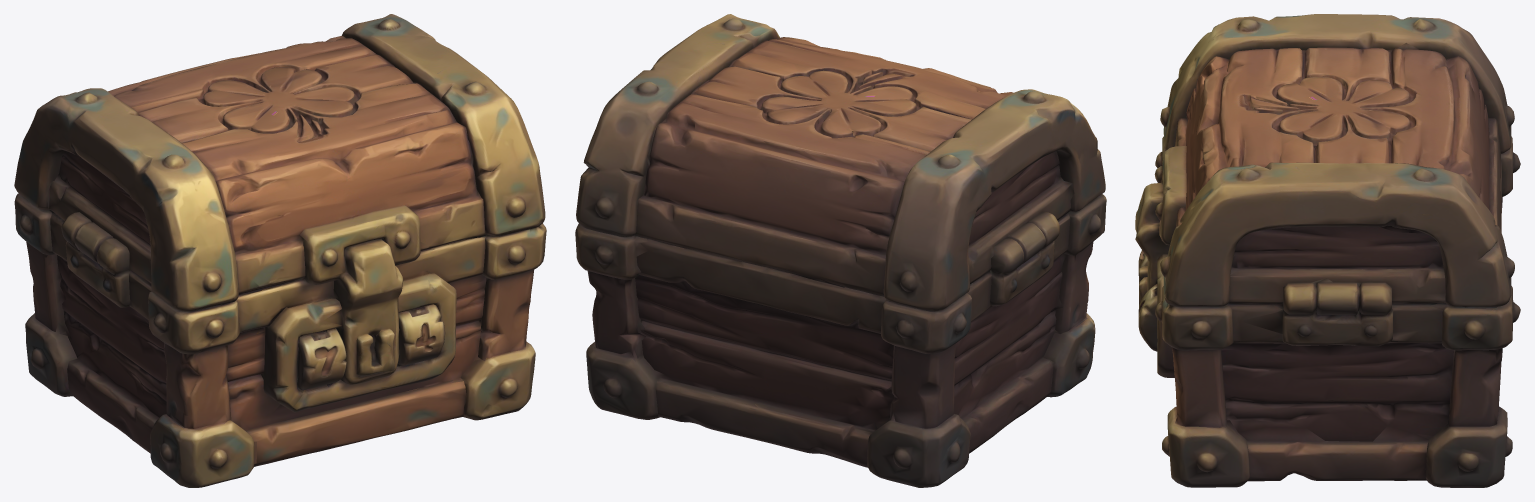
The model's file is chest.glb.
3 renders of one model, left to right at view 1: azimuth 30°, elevation 25°; view 2: azimuth 150°, elevation 25°; view 3: azimuth 270°, elevation 25°, orthographic.
Visible parts, largest first — view 1: tripo_part_1, tripo_part_3, tripo_part_2, tripo_part_0, tripo_part_10, tripo_part_6, tripo_part_11, tripo_part_9, tripo_part_13, tripo_part_15, tripo_part_4, tripo_part_8 (+10 smaller); view 2: tripo_part_1, tripo_part_0, tripo_part_3, tripo_part_2, tripo_part_14, tripo_part_13, tripo_part_7, tripo_part_18, tripo_part_12, tripo_part_4, tripo_part_5, tripo_part_15 (+2 smaller); view 3: tripo_part_19, tripo_part_1, tripo_part_2, tripo_part_3, tripo_part_16, tripo_part_20, tripo_part_14, tripo_part_12, tripo_part_8, tripo_part_6, tripo_part_22, tripo_part_17 (+2 smaller).
Part boxes in pixels (x1=…): tripo_part_1: x1=108, y1=36, x2=485, y2=294; tripo_part_3: x1=14, y1=88, x2=238, y2=311; tripo_part_2: x1=342, y1=14, x2=546, y2=280; tripo_part_0: x1=50, y1=210, x2=166, y2=453; tripo_part_10: x1=164, y1=275, x2=486, y2=430; tripo_part_6: x1=300, y1=205, x2=429, y2=384; tripo_part_11: x1=261, y1=273, x2=456, y2=412; tripo_part_9: x1=245, y1=380, x2=466, y2=466; tripo_part_13: x1=47, y1=151, x2=151, y2=284; tripo_part_15: x1=150, y1=414, x2=256, y2=487; tripo_part_4: x1=61, y1=212, x2=130, y2=307; tripo_part_8: x1=451, y1=341, x2=535, y2=420; tripo_part_1: x1=636, y1=37, x2=1013, y2=296; tripo_part_0: x1=635, y1=211, x2=1070, y2=467; tripo_part_3: x1=883, y1=89, x2=1105, y2=311; tripo_part_2: x1=576, y1=14, x2=780, y2=237; tripo_part_14: x1=575, y1=223, x2=648, y2=358; tripo_part_13: x1=968, y1=151, x2=1074, y2=283; tripo_part_7: x1=867, y1=412, x2=970, y2=487; tripo_part_18: x1=884, y1=343, x2=955, y2=428; tripo_part_12: x1=586, y1=342, x2=664, y2=419; tripo_part_4: x1=990, y1=212, x2=1059, y2=306; tripo_part_5: x1=880, y1=293, x2=972, y2=358; tripo_part_15: x1=1043, y1=313, x2=1095, y2=397; tripo_part_19: x1=1221, y1=226, x2=1453, y2=441; tripo_part_1: x1=1175, y1=43, x2=1500, y2=230; tripo_part_2: x1=1155, y1=162, x2=1514, y2=350; tripo_part_3: x1=1160, y1=14, x2=1514, y2=153; tripo_part_16: x1=1238, y1=426, x2=1428, y2=481; tripo_part_20: x1=1240, y1=278, x2=1393, y2=346; tripo_part_14: x1=1429, y1=286, x2=1520, y2=426; tripo_part_12: x1=1414, y1=406, x2=1512, y2=487; tripo_part_8: x1=1162, y1=407, x2=1250, y2=487; tripo_part_6: x1=1135, y1=146, x2=1186, y2=291; tripo_part_22: x1=1172, y1=347, x2=1226, y2=427; tripo_part_17: x1=1138, y1=284, x2=1157, y2=351.
Bounding box in the file's own units: 0.9801 × 0.7376 × 0.8193.
Materials: 1 (1 with a texture image).
